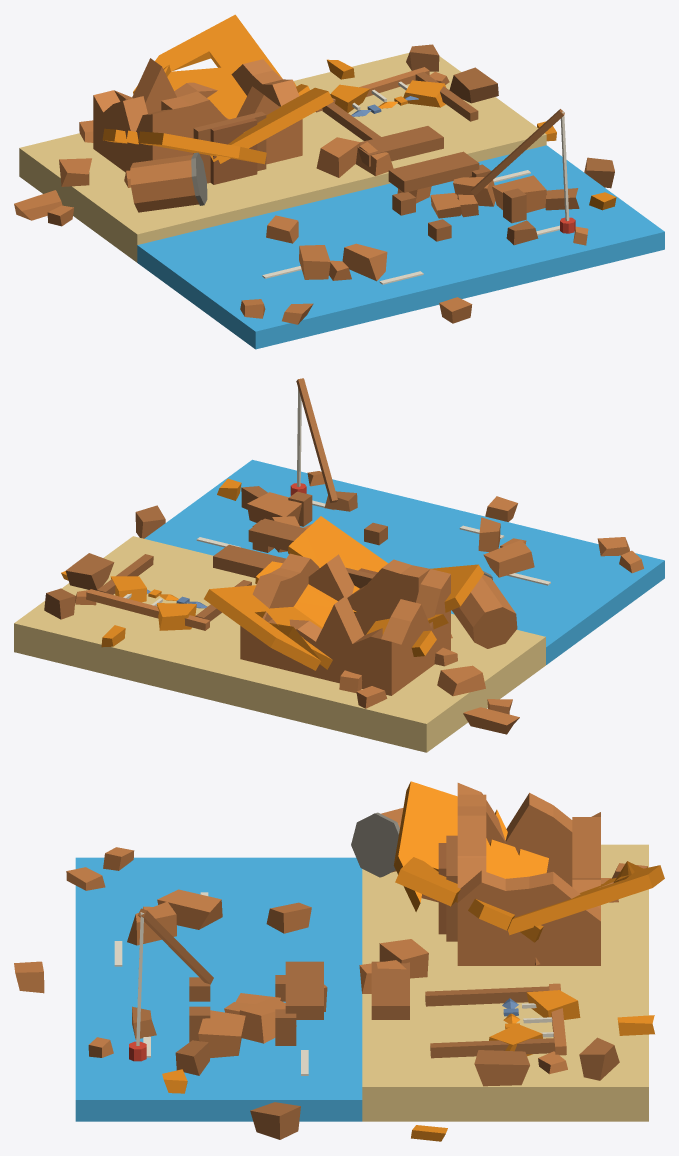
Rendered from fishery_t1_v1_dmg2.glb.
The picture shows the model from 3 angles, top to bottom: view 1: azimuth 30°, elevation 25°; view 2: azimuth 150°, elevation 25°; view 3: azimuth 270°, elevation 25°; orthographic projection. The views are drawn at different scales.
Visible parts, largest first — view 1: fishery_t1_v1_dmg2; view 2: fishery_t1_v1_dmg2; view 3: fishery_t1_v1_dmg2.
Boxes of the visible parts, x1,y1,x2,y2 form: fishery_t1_v1_dmg2: [14, 14, 664, 349]; fishery_t1_v1_dmg2: [14, 378, 664, 752]; fishery_t1_v1_dmg2: [14, 781, 664, 1141].
Size of the model in its own units: 0.7206 by 0.1928 by 0.6813.
Materials: 1 (1 with a texture image).
